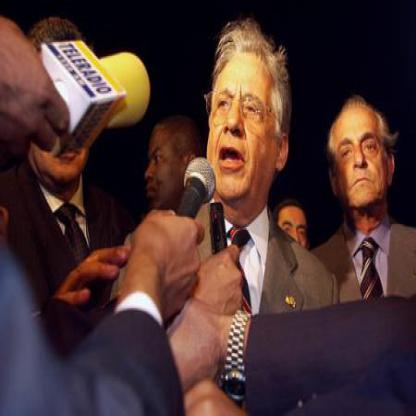face: (208, 33, 278, 206), (332, 98, 390, 207), (139, 120, 186, 214), (276, 204, 309, 269)
